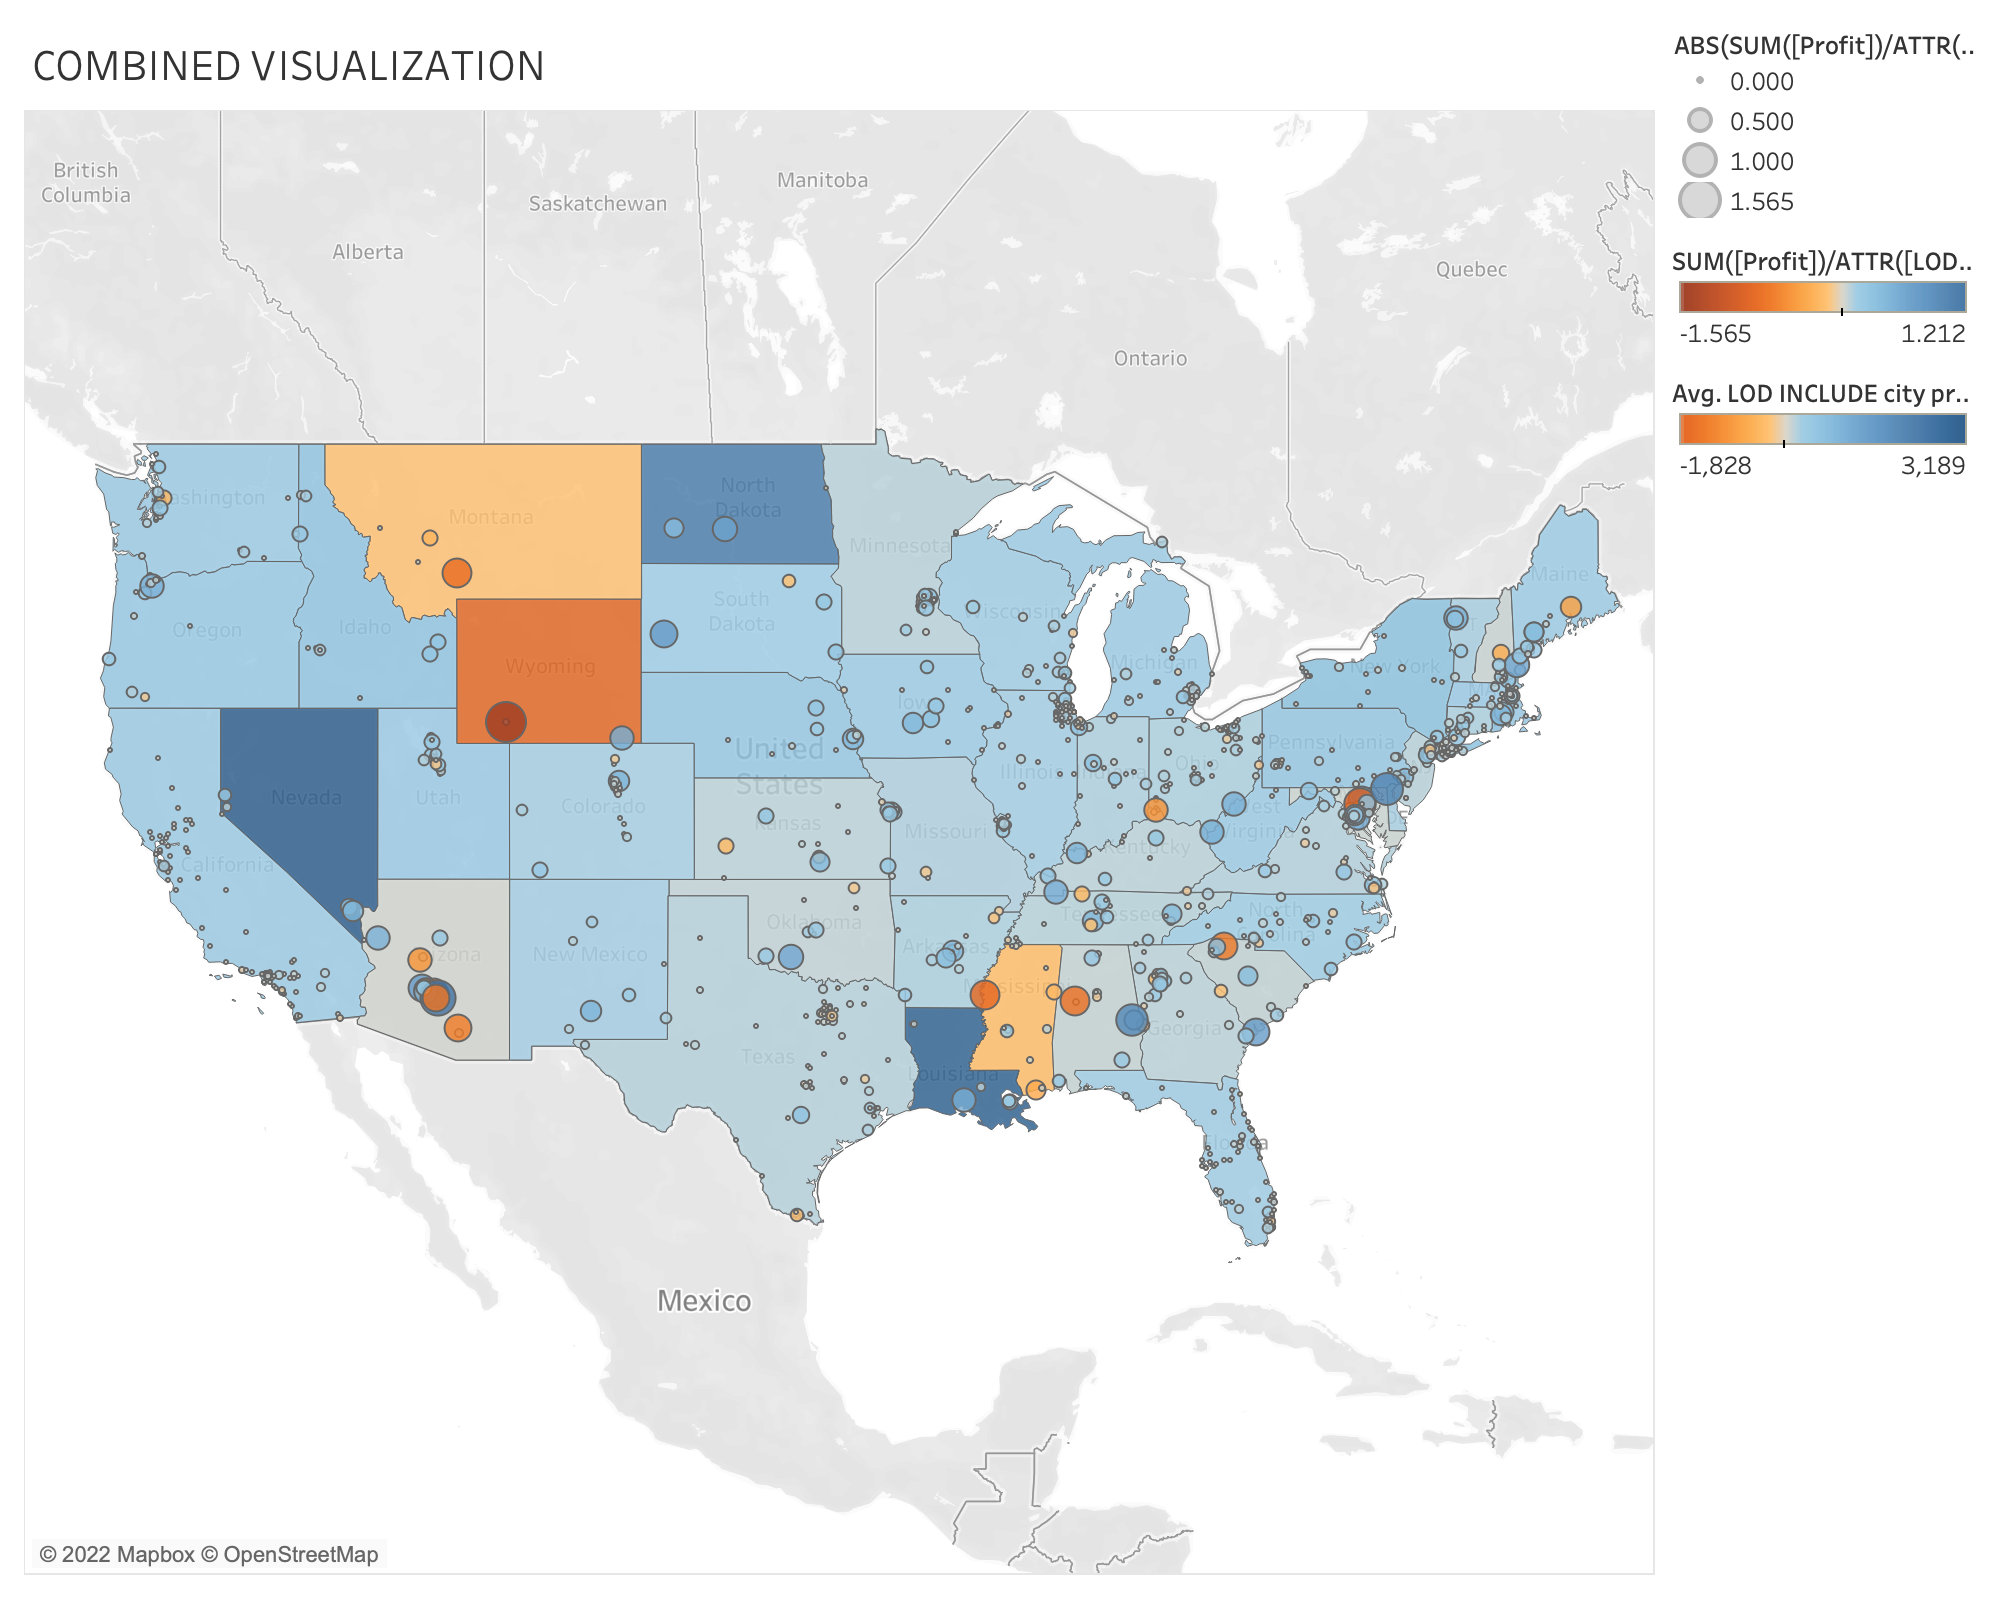

The dashboard page shown, as its layout file describes it:
{"tool":"tableau","page":{"name":"Dashboard 1","canvas":[600,400],"ordinal":0},"visuals":[{"type":"worksheet","title":"COMBINED VISUALIZATION","mark":"Automatic","box":[8,8,424,384]},{"type":"legend","title":"COMBINED VISUALIZATION","param":"[federated.1s0brhn0g8nutf15au6h300d4ecn].[usr:Calculation_766737849247457284:qk]","box":[432,8,160,106]},{"type":"legend","title":"COMBINED VISUALIZATION","param":"[federated.1s0brhn0g8nutf15au6h300d4ecn].[usr:Calculation_766737849248706567:qk]","box":[432,114,160,65]},{"type":"legend","title":"COMBINED VISUALIZATION","param":"[federated.1s0brhn0g8nutf15au6h300d4ecn].[avg:Calculation_574912651511746560:qk]","box":[432,179,160,65]}]}

Visuals, with their boxes on the page's 600x400 design canvas (x1, y1, x2, y2). These are canvas units, not pixel positions in the 2000x1600 screenshot, which may show the page scaled, cropped or inside an application window:
"COMBINED VISUALIZATION" worksheet: locate(8, 8, 432, 392)
"COMBINED VISUALIZATION" legend: locate(432, 8, 592, 114)
"COMBINED VISUALIZATION" legend: locate(432, 114, 592, 179)
"COMBINED VISUALIZATION" legend: locate(432, 179, 592, 244)
